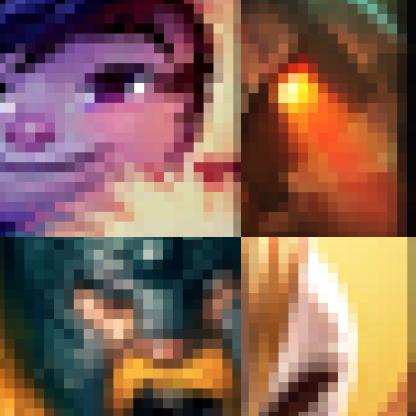Kayle: (241, 237, 415, 415)
Nautilus: (241, 0, 415, 236)
Nunu and Willump: (0, 0, 240, 236)
Olaf: (0, 237, 240, 415)
